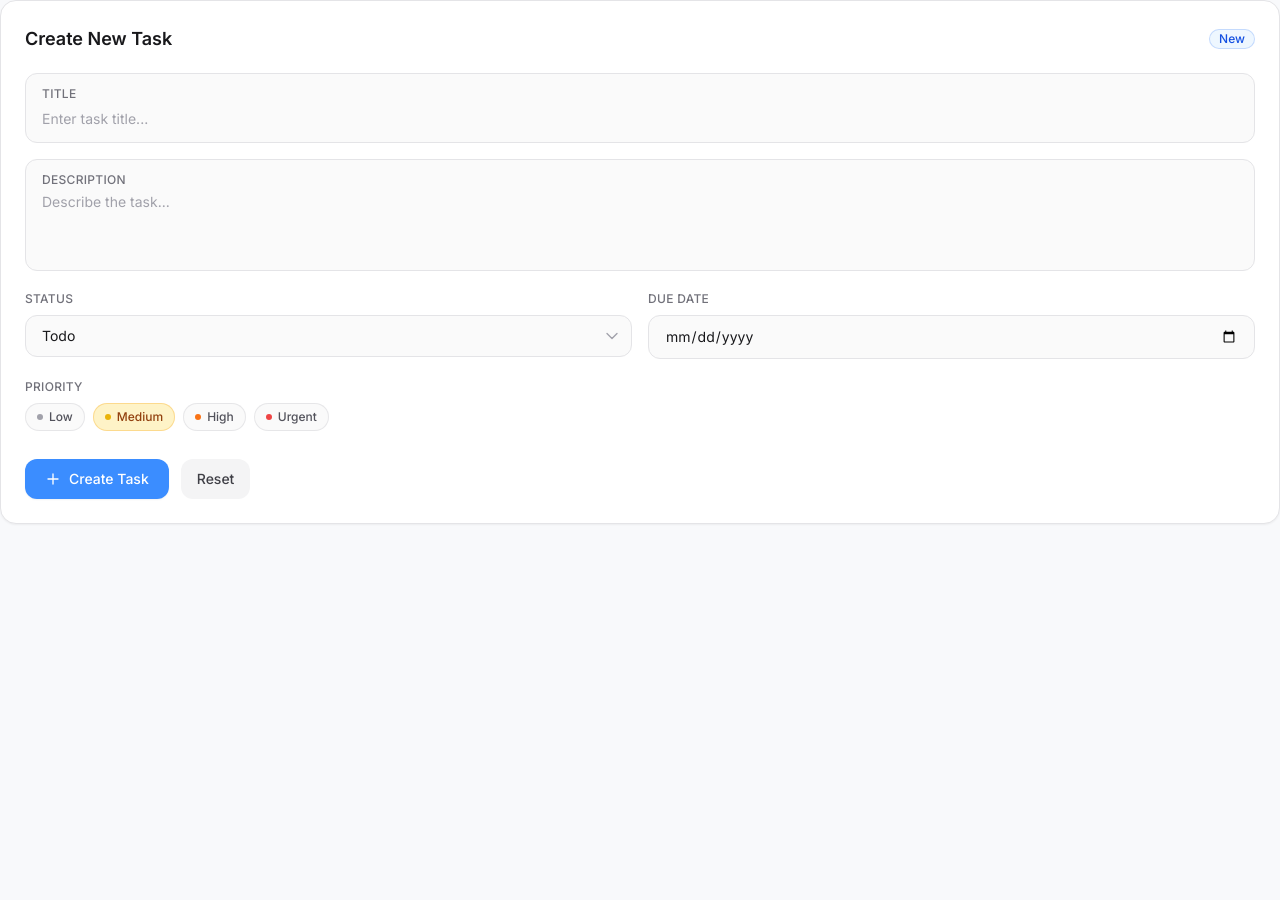
it: TaskForm Component › shows error when title is empty
Type "Some description" into the text box labelled "Description" at (640,222), box top-left (42, 192), bottom-right (1238, 252)
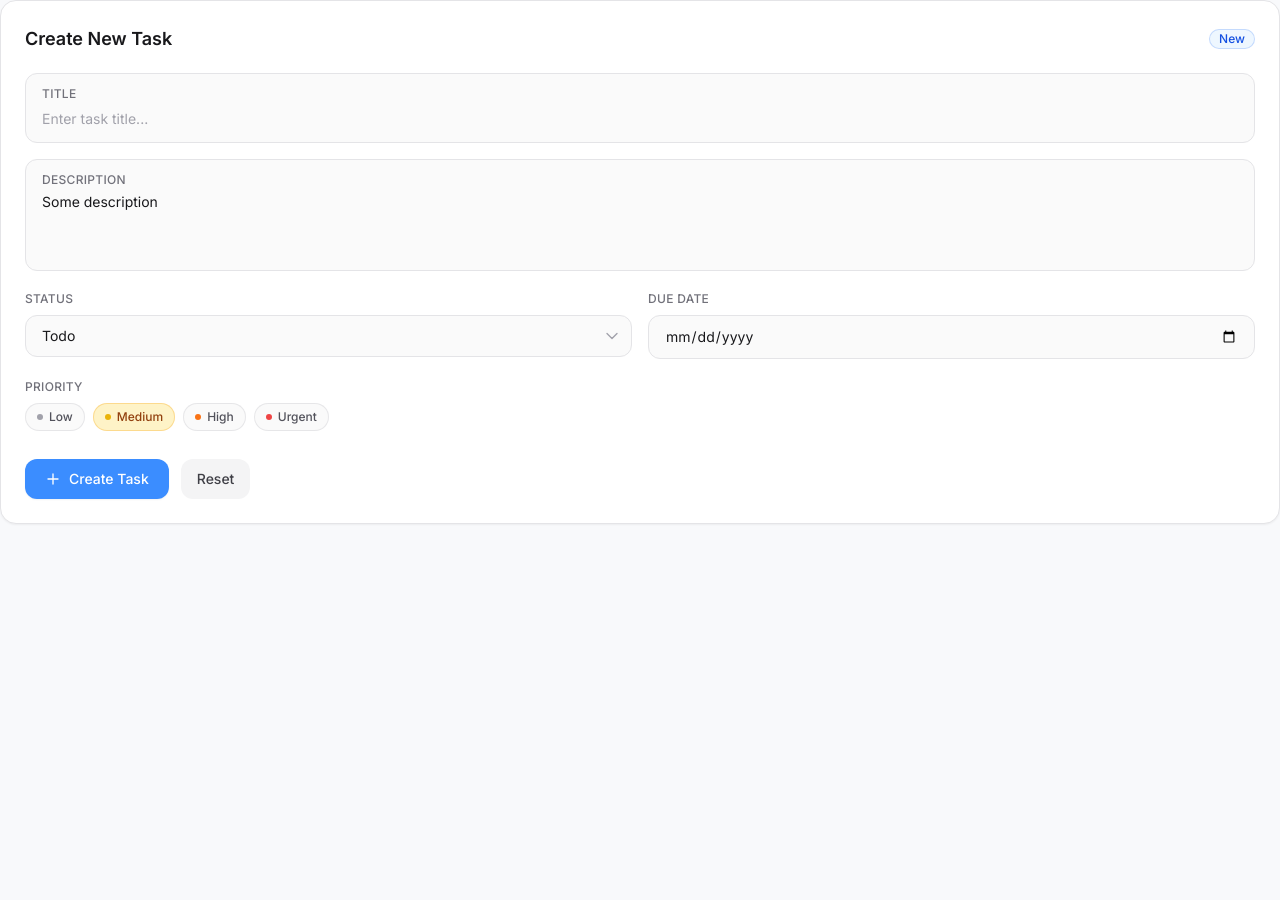
Leave the field labelled "Title", box top-left (42, 109), bottom-right (1238, 129)
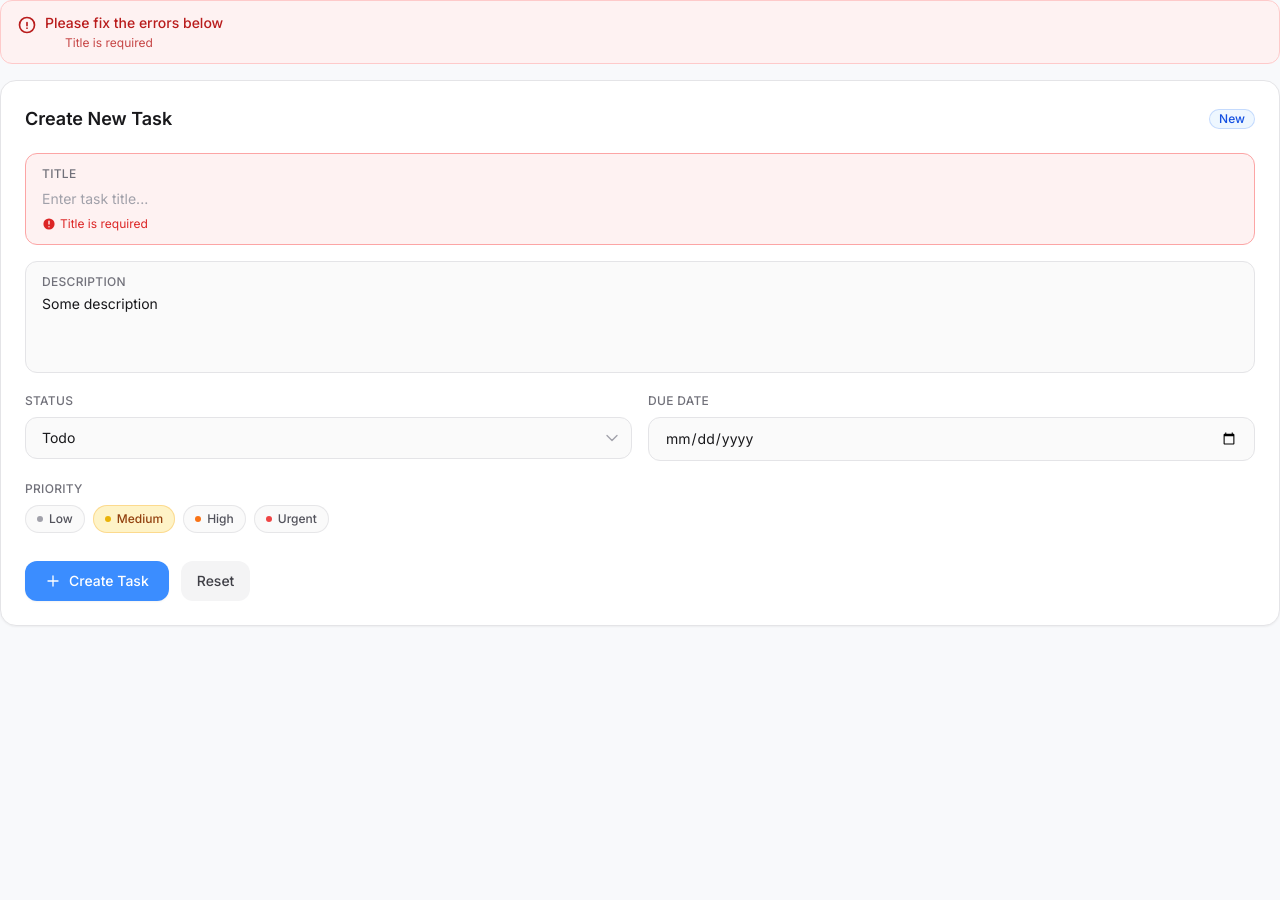
Expected: the text "Title is required" is shown, top-left (65, 35), bottom-right (153, 50)
